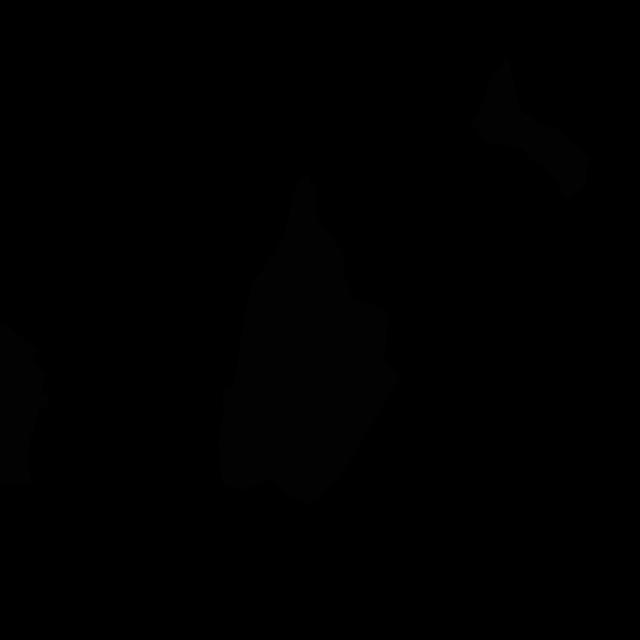cardboard: (219, 174, 401, 505), (470, 58, 588, 204), (0, 324, 48, 484)
